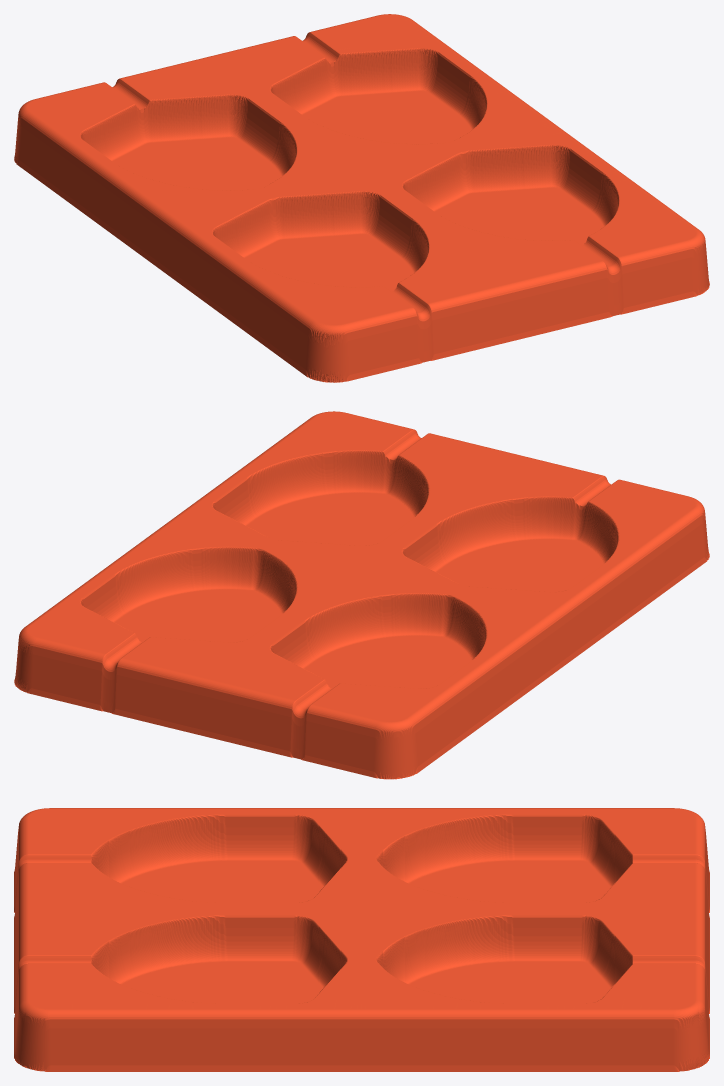
The model's file is mold.glb.
The picture shows the model from 3 angles, top to bottom: view 1: azimuth 30°, elevation 25°; view 2: azimuth 150°, elevation 25°; view 3: azimuth 270°, elevation 25°; orthographic projection. The views are drawn at different scales.
Visible parts, largest first — view 1: geometry_0; view 2: geometry_0; view 3: geometry_0.
Part boxes in pixels (<box>): geometry_0: <box>14,14,709,382</box>; geometry_0: <box>14,411,709,779</box>; geometry_0: <box>14,808,709,1071</box>.
Bounding box in the file's own units: 0.1253 × 0.0155 × 0.1735.
